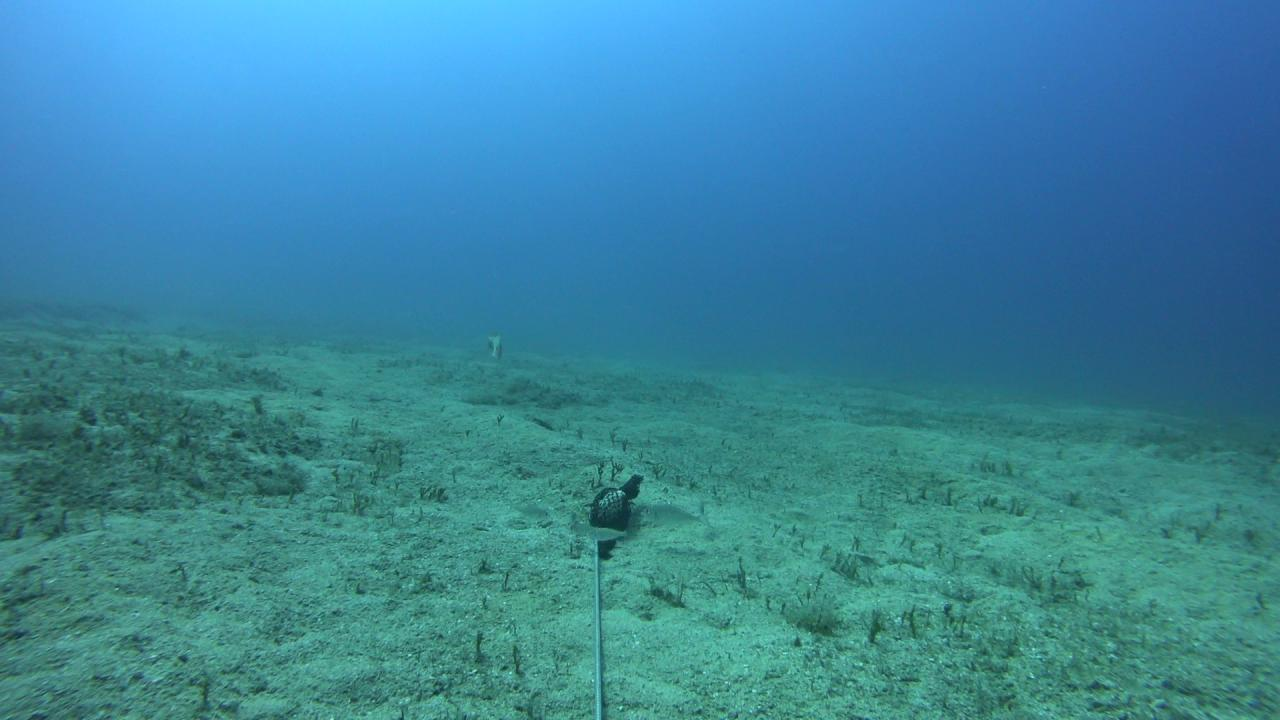pagellus: (639, 503, 711, 530), (584, 527, 632, 542), (508, 502, 552, 518), (566, 521, 594, 537)
